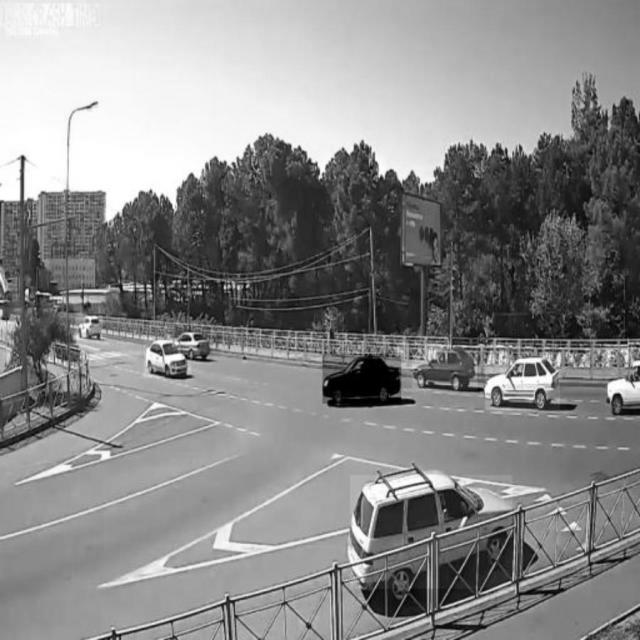vehicle: (349, 476, 513, 589), (485, 356, 559, 411), (323, 354, 401, 404), (413, 345, 477, 390), (605, 355, 640, 415), (145, 336, 192, 378), (182, 332, 212, 364), (77, 313, 103, 340)
